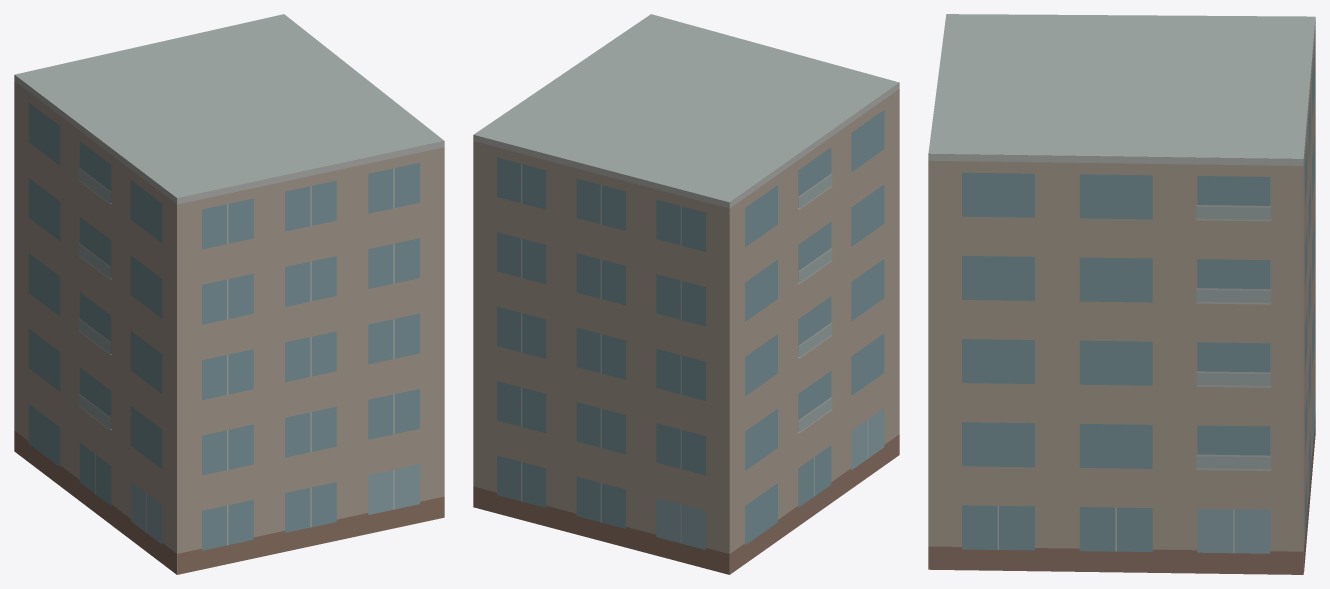
File: survey-upis-32832785.glb
The picture shows the model from 3 angles, left to right: view 1: azimuth 30°, elevation 25°; view 2: azimuth 150°, elevation 25°; view 3: azimuth 270°, elevation 25°; orthographic projection. The views are drawn at different scales.
Visible parts, largest first — view 1: survey-upis-32832785.tmp; view 2: survey-upis-32832785.tmp; view 3: survey-upis-32832785.tmp.
Boxes of the visible parts, <box> form: survey-upis-32832785.tmp: <box>14,14,444,574</box>; survey-upis-32832785.tmp: <box>473,14,899,574</box>; survey-upis-32832785.tmp: <box>928,14,1315,574</box>.
Size of the model in its own units: 10.81 by 14.45 by 12.2.
